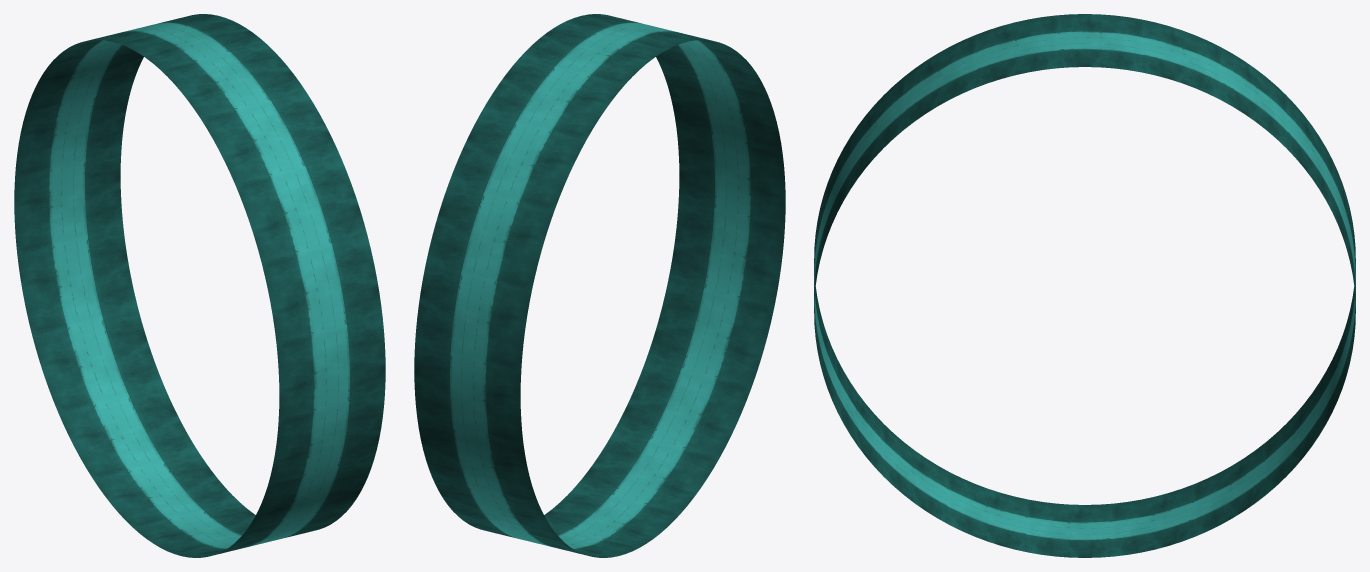
File: ground.fbx
3 views of the same model, side by side, from view 1: azimuth 30°, elevation 25°; view 2: azimuth 150°, elevation 25°; view 3: azimuth 270°, elevation 25° (orthographic). The views are drawn at different scales.
Visible parts, largest first — view 1: grund; view 2: grund; view 3: grund.
Boxes of the visible parts, x1=… form: grund: x1=14, y1=14, x2=385, y2=557; grund: x1=414, y1=14, x2=785, y2=557; grund: x1=814, y1=14, x2=1355, y2=557.
Bounding box in the file's own units: 10054 × 43420 × 43420.
